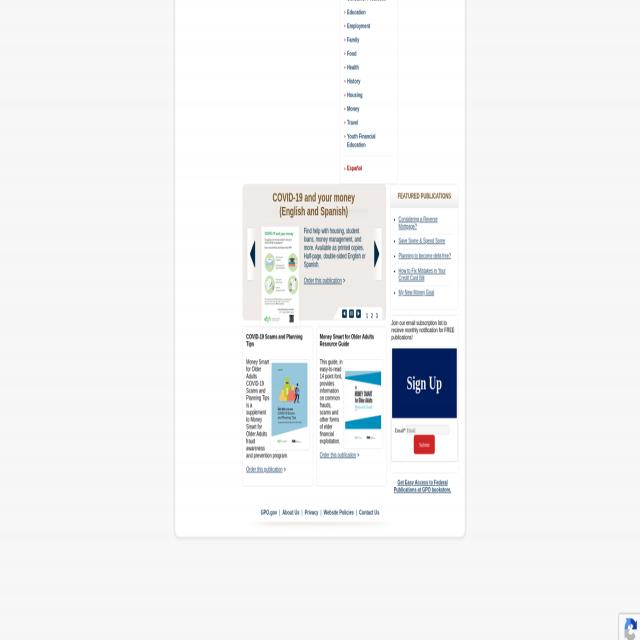button: (391, 348, 457, 418), (270, 360, 310, 450), (343, 360, 383, 450), (246, 228, 260, 282), (369, 228, 383, 282), (618, 612, 640, 640), (414, 434, 435, 454), (342, 309, 347, 318), (349, 309, 354, 318), (356, 309, 361, 318)
field: (406, 425, 450, 435)
